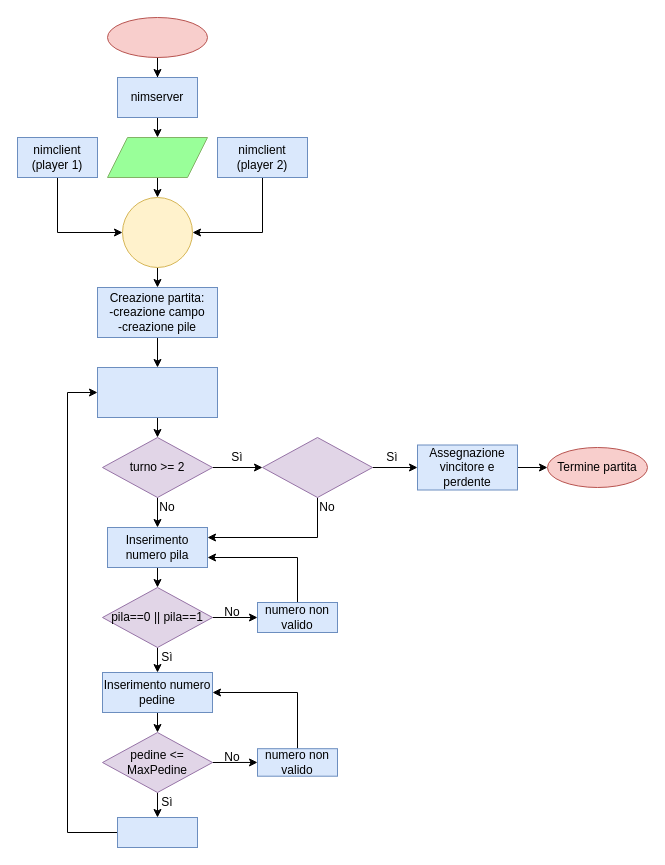
Image size: 665x865. Some labels were removed from this diagram. Here are the shapes that lost their labels. From the top down, the box of each, then its label:
(106, 16, 208, 58): Makefile
(106, 136, 208, 178): Attesa connessione client
(122, 196, 192, 268): Connessione Stabilita
(96, 366, 218, 418): Inizio turno (default: il primo turno lo inizia il player 1)
(262, 436, 372, 498): c'è un vincitore?
(116, 816, 198, 848): cambio turno
